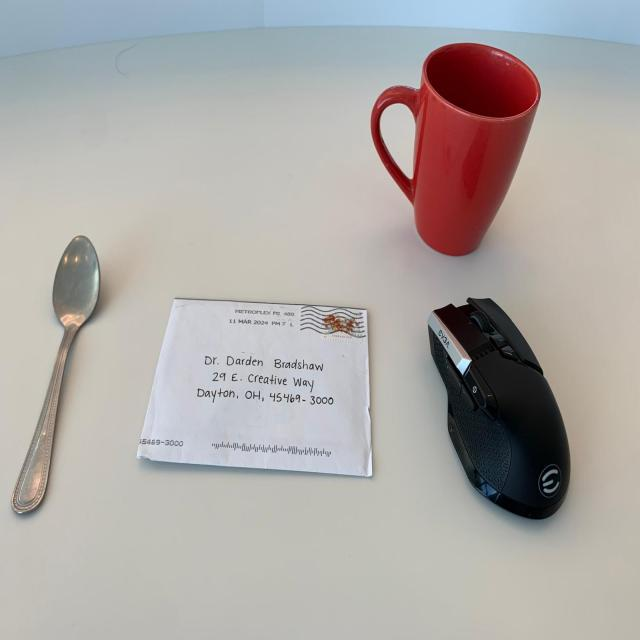Cup: (355, 31, 554, 269)
Mouse: (404, 286, 588, 524)
Spoon: (7, 231, 116, 521)
